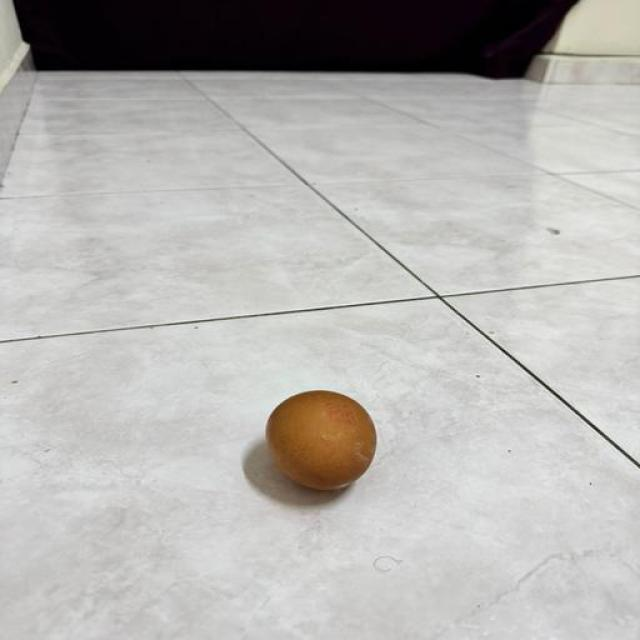organic: (267, 390, 376, 489)
